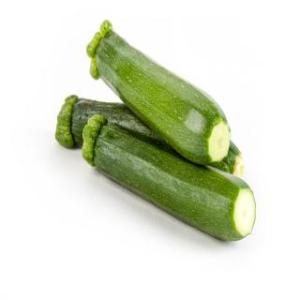zucchini: (87, 12, 237, 164)
